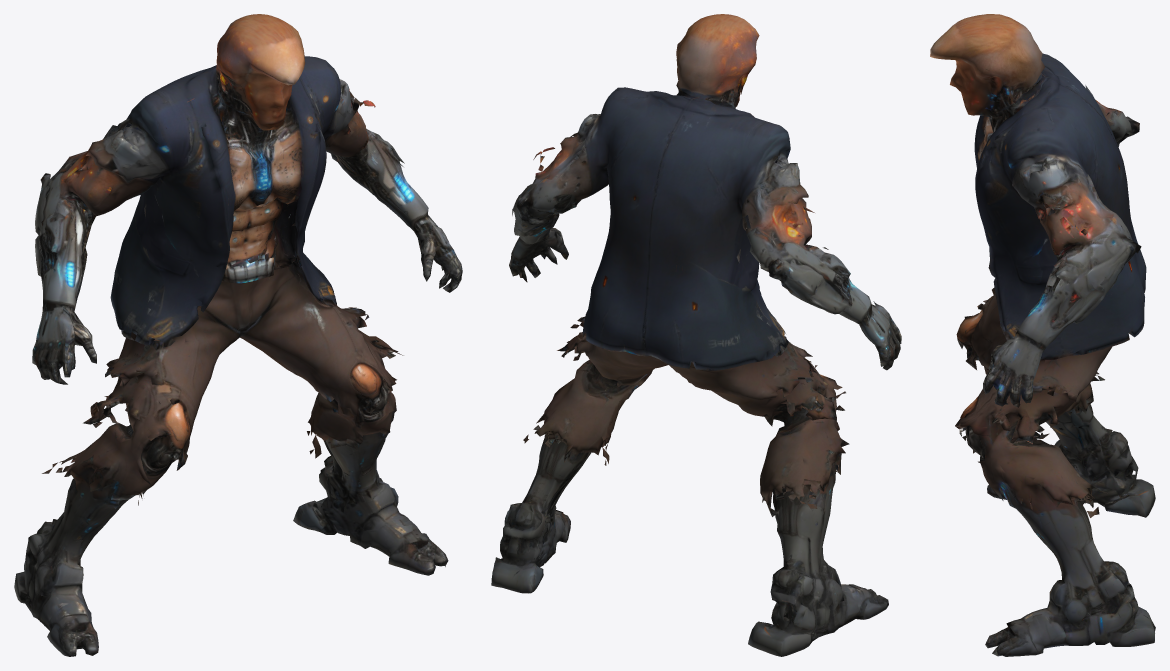
The model's file is GREED.glb.
3 renders of one model, left to right at view 1: azimuth 30°, elevation 25°; view 2: azimuth 150°, elevation 25°; view 3: azimuth 270°, elevation 25°, orthographic. The views are drawn at different scales.
Size of the model in its own units: 1.47 by 2 by 0.7414.
Materials: 1 (1 with a texture image).
